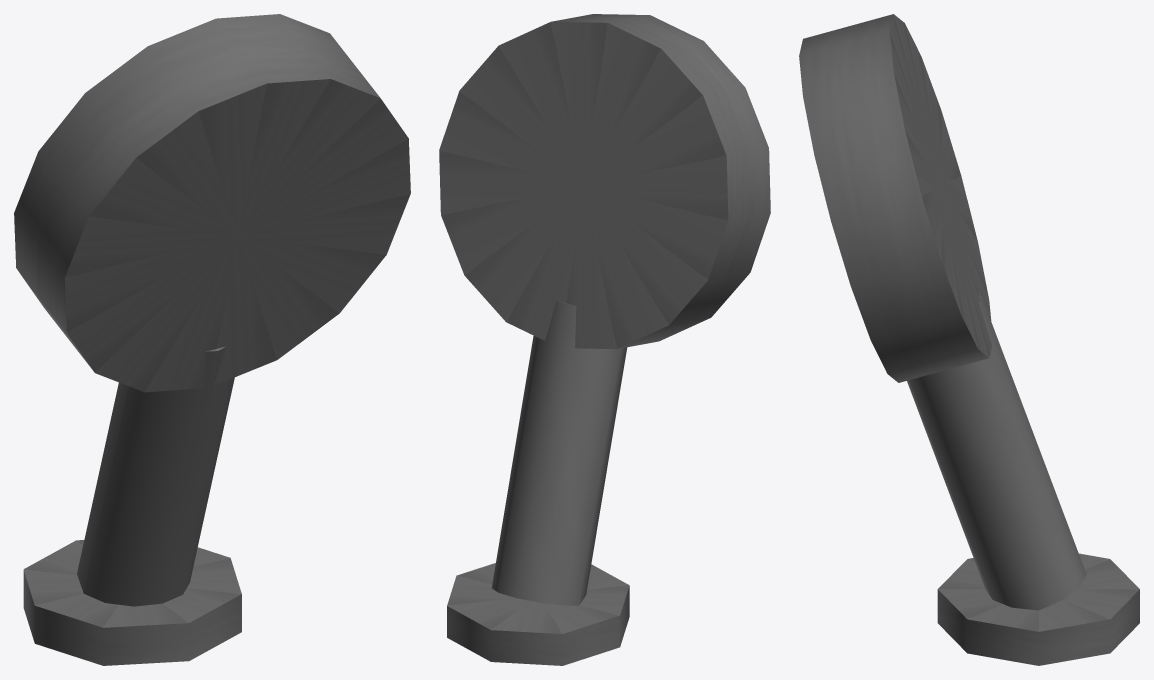
The model's file is mastarmcurve_5x1_c1_down.obj.
The picture shows the model from 3 angles, left to right: view 1: azimuth 30°, elevation 25°; view 2: azimuth 150°, elevation 25°; view 3: azimuth 270°, elevation 25°; orthographic projection. The views are drawn at different scales.
Visible parts, largest first — view 1: mastarm_5x1_c1_down; view 2: mastarm_5x1_c1_down; view 3: mastarm_5x1_c1_down.
Part boxes in pixels (bbox=[...]): mastarm_5x1_c1_down: bbox=[14, 14, 410, 665]; mastarm_5x1_c1_down: bbox=[439, 14, 770, 665]; mastarm_5x1_c1_down: bbox=[799, 14, 1139, 665].
Bounding box in the file's own units: 0.7071 × 1.29 × 0.6744.
